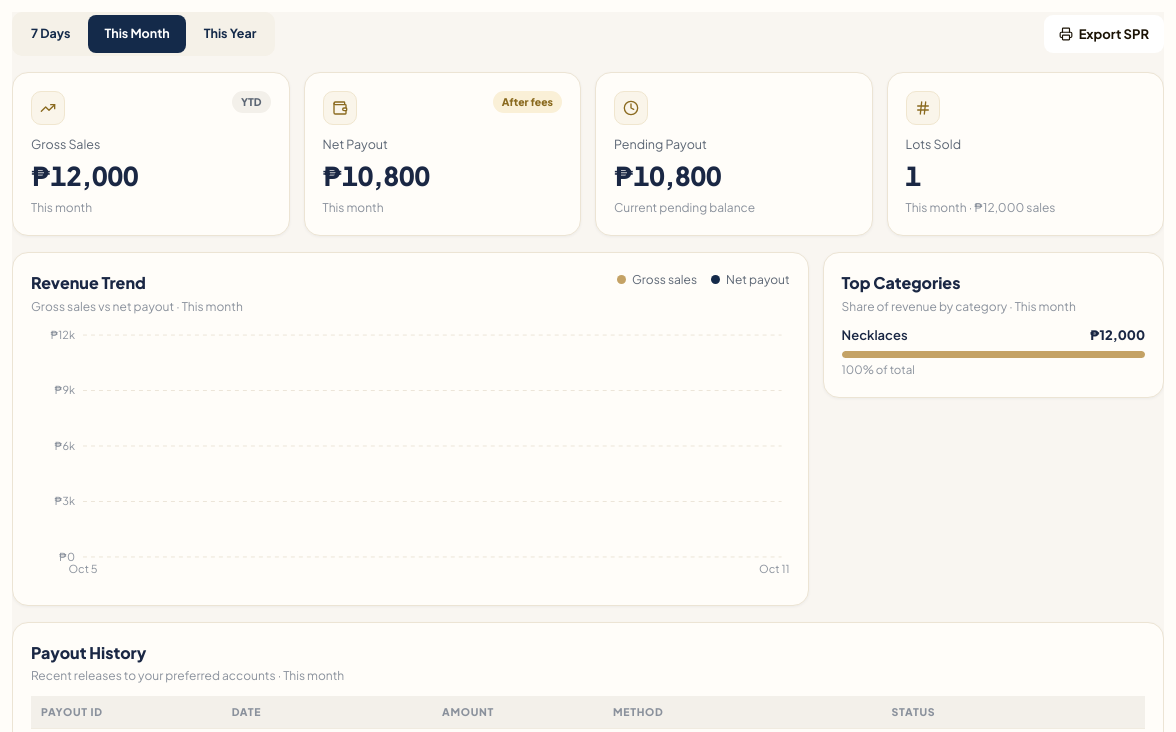
Test case: only one active range; switching refreshes everything
expect the text "Gross Sales" is shown: met, box x1=31 y1=136 x2=100 y2=152
Step 1. Click the button "This Year" → click(230, 34), box x1=188 y1=15 x2=272 y2=53
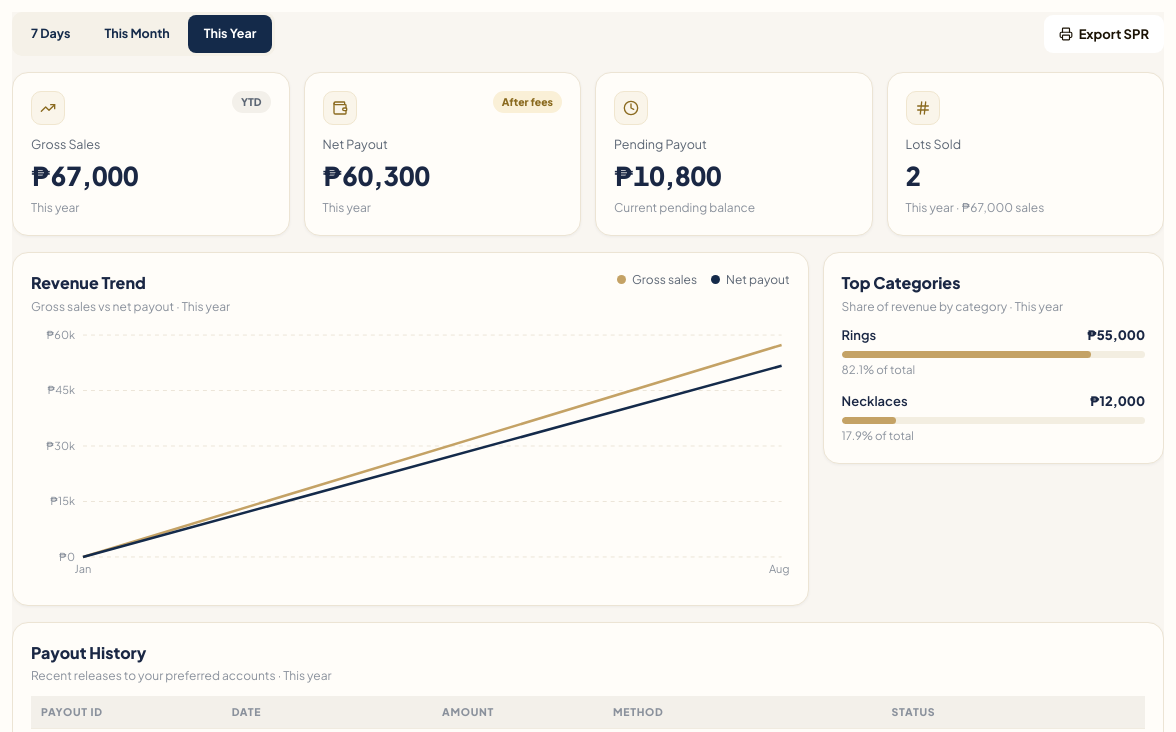
expect the text "₱67,000" is shown: met, box x1=31 y1=159 x2=139 y2=192
expect the text "Rings" is shown: met, box x1=842 y1=325 x2=876 y2=345
